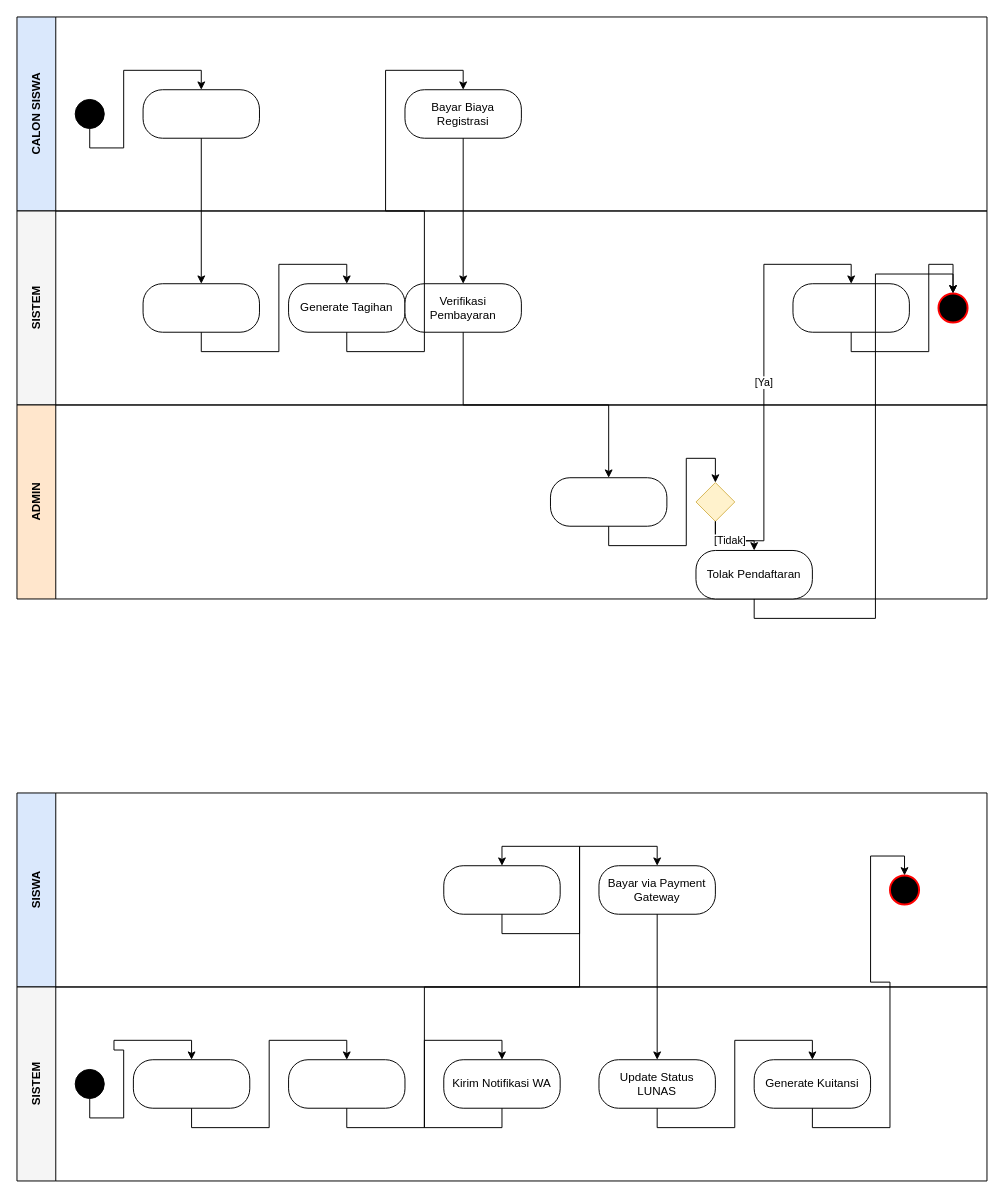
Some shapes in this 1004 by 1198 pixel diagram are drawn without their labels. Here are the shapes that lost their labels. From the top down, the centre of each, then its label:
At (x=200, y=113): "Isi Form Pendaftaran".
At (x=200, y=307): "Validasi Data".
At (x=850, y=307): "Buat Akun Siswa".
At (x=608, y=501): "Cek Berkas".
At (x=501, y=889): "Buka Aplikasi".
At (x=191, y=1083): "Jadwal Bulanan (Tgl 1)".
At (x=346, y=1083): "Generate SPP".
